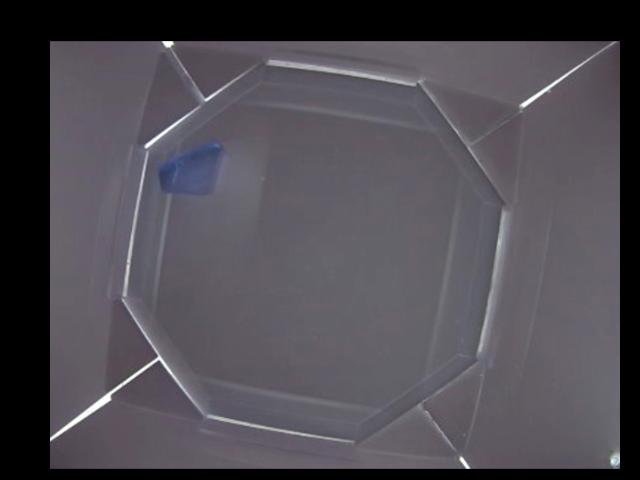Mooli: (157, 140, 223, 196)
